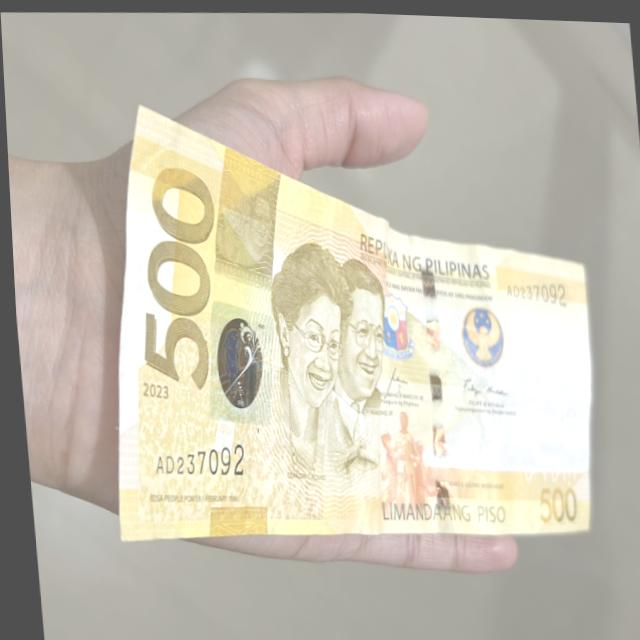concealed_value: (219, 168, 279, 260)
optically_variable_device: (210, 310, 263, 406)
see_through_mark: (513, 456, 577, 483)
serial_number: (141, 429, 248, 488), (499, 272, 567, 308)
value: (124, 162, 228, 377)
value_watermark: (556, 389, 577, 431)
watermark: (496, 307, 581, 450)
